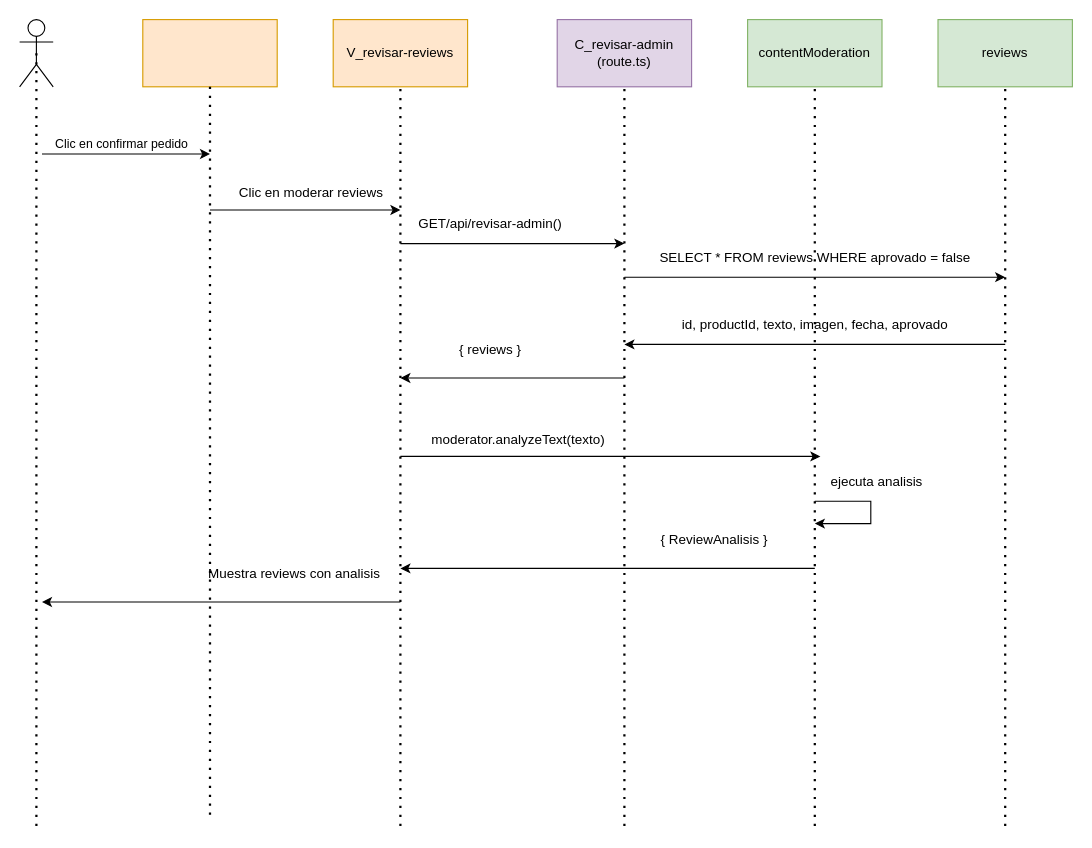
This 1092x848 diagram has some shape labels left out. Each missing label, with the centre of its shape:
Actor: point 35,52
V_pagina-admin: point 209,52
